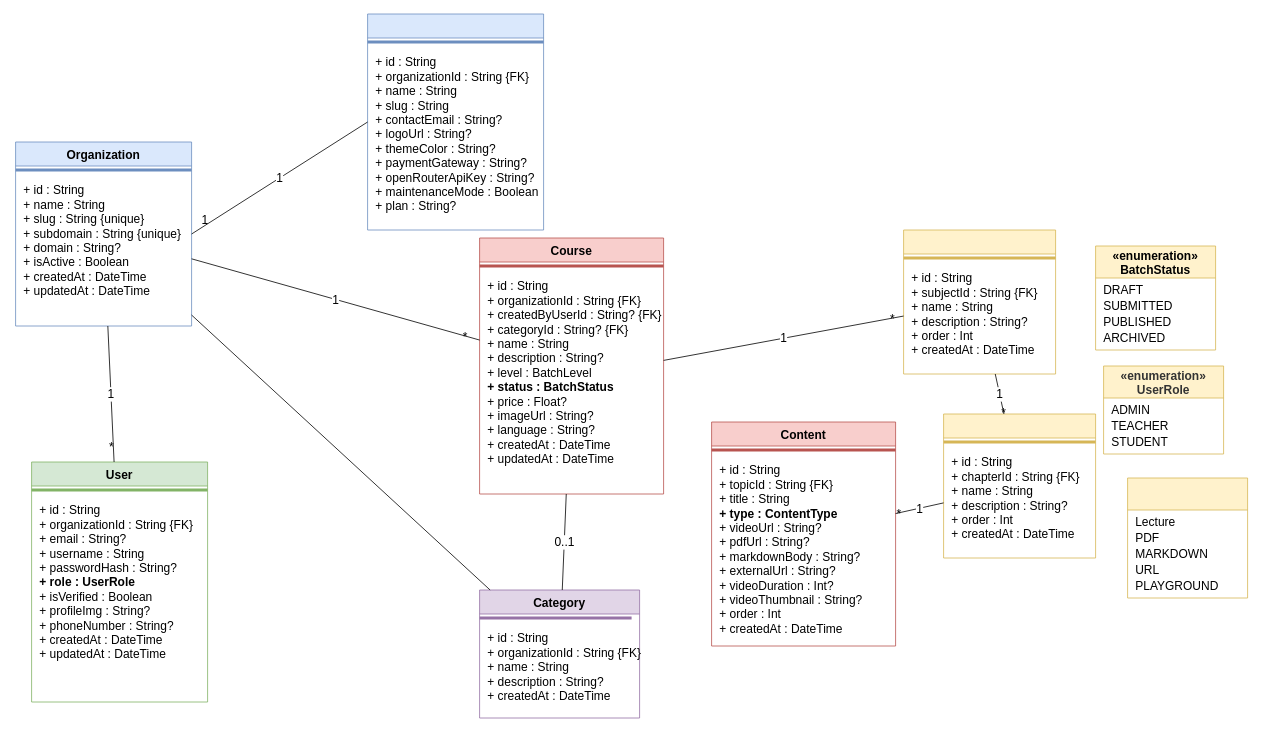
The diagram is 1262 pixels wide and 732 high, and some of its shapes have lost their labels. The box of each missing label's shape, as (x1, y1, x2, y2) in pixels:
Chapter: (903, 229, 1056, 374)
OrganizationConfig: (367, 13, 544, 230)
Topic: (943, 413, 1096, 558)
«enumeration» ContentType: (1127, 477, 1248, 598)
